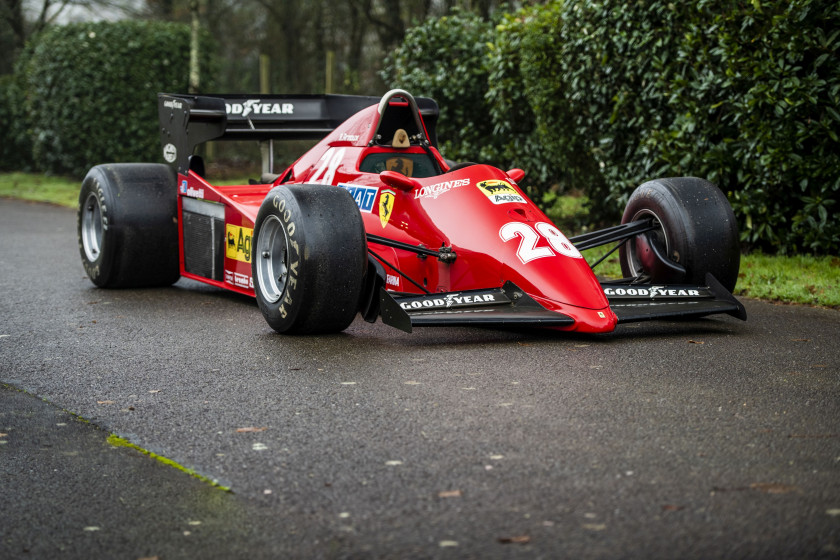Formule 1: (83, 92, 743, 332)
